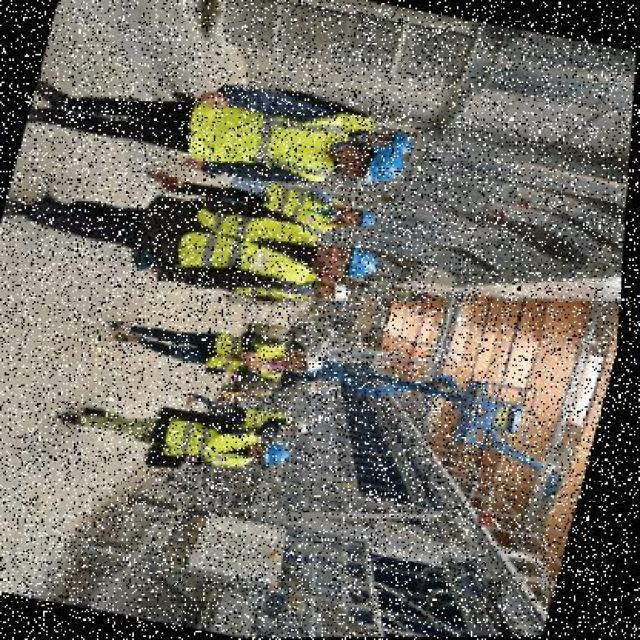helmet: (345, 138, 417, 198), (336, 239, 386, 287), (260, 434, 308, 478), (292, 343, 334, 377), (342, 202, 379, 234), (286, 411, 322, 439), (322, 282, 357, 304)
vest: (170, 85, 357, 193), (151, 192, 335, 300), (151, 406, 275, 473), (185, 317, 299, 384), (253, 183, 345, 236), (235, 402, 305, 436)
